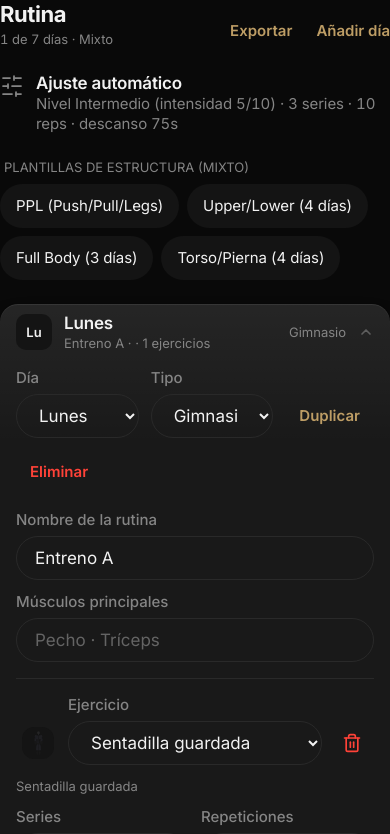
Scenario: trainer routine editor › deletes an exercise with a visible, directly available action
The width and height of the screenshot is (390, 834).
Click the button named "Eliminar ejercicio 1: Sentadilla guardada".
click(352, 743)  # box [330, 721, 374, 765]
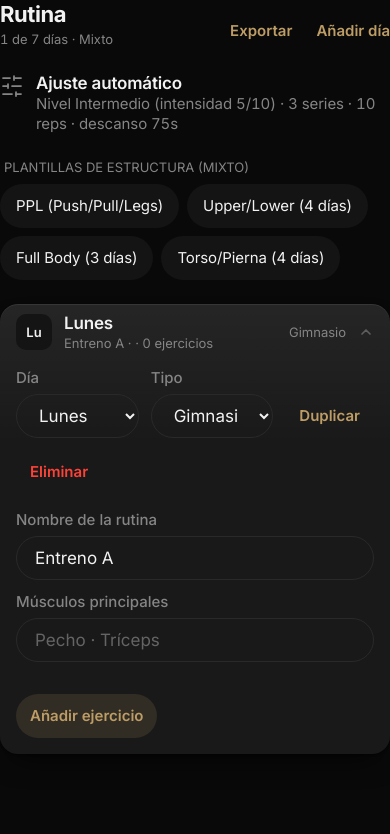
Result: the button "Lu Lunes Entreno A · · 0 ejercicios Gimnasio" is shown at [0, 304, 389, 360]
